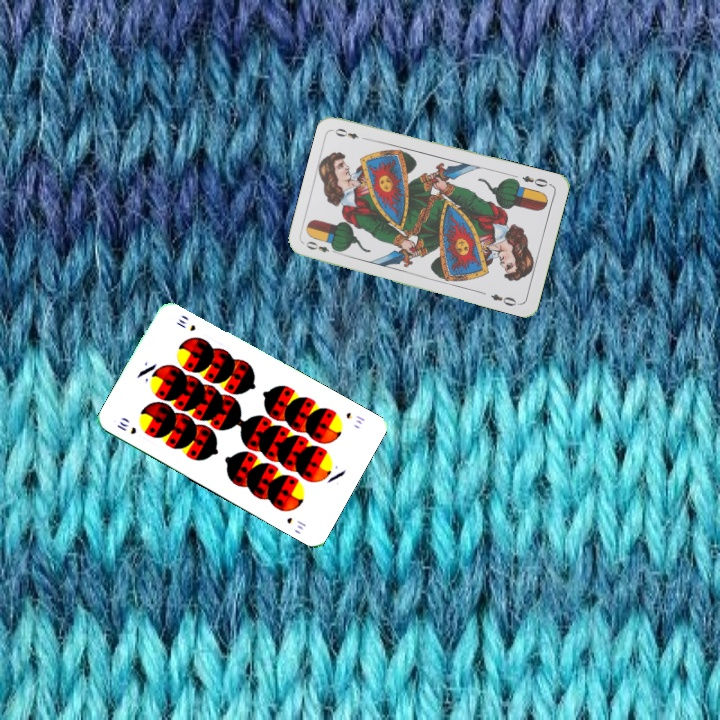EO: (302, 237, 341, 257), (518, 171, 554, 190)
S10: (113, 417, 139, 437), (342, 408, 367, 427)
